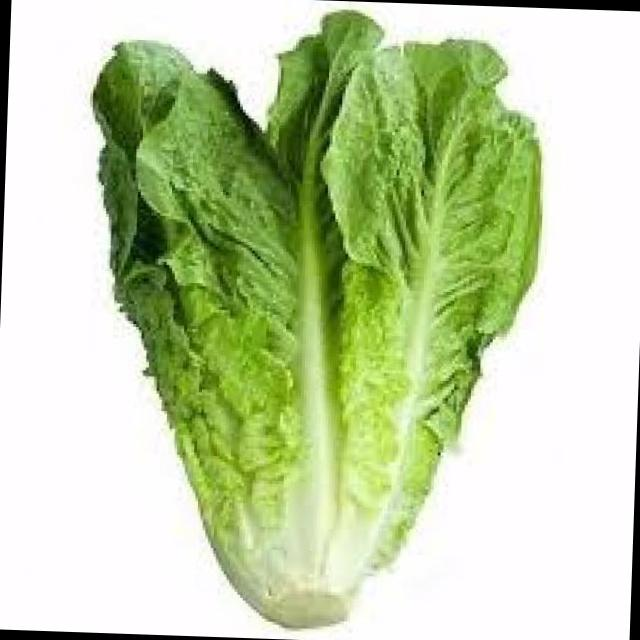Lettuce-Ready-to-Harvest: (94, 11, 540, 626)
